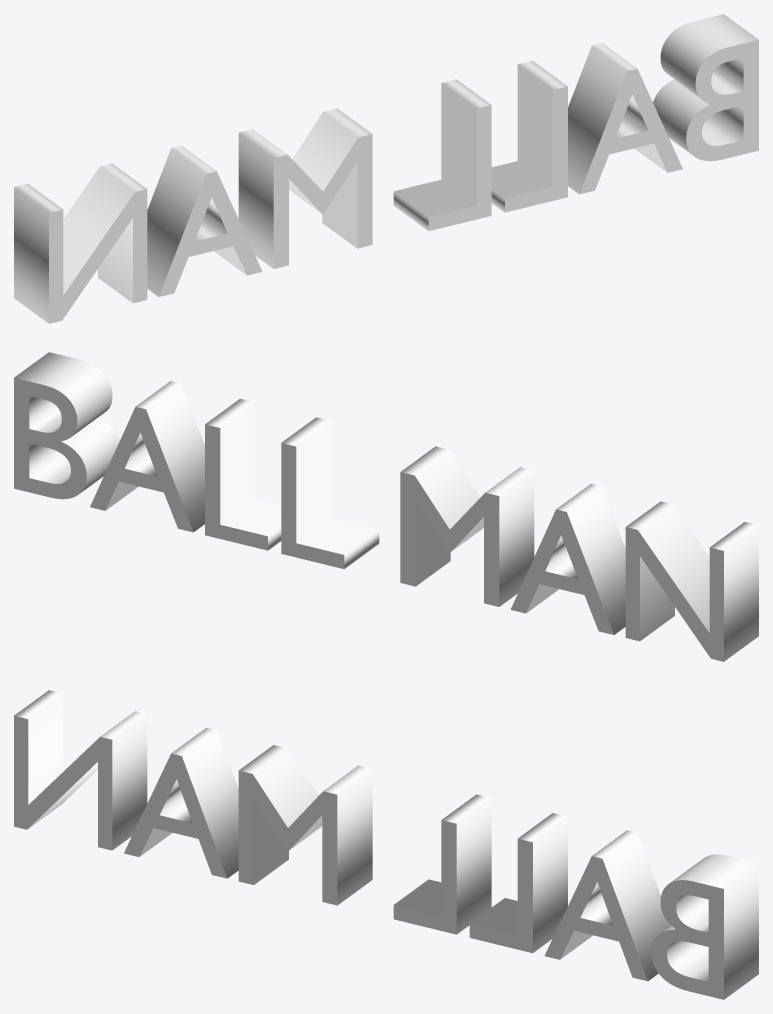
Rendered from title.obj.
3 renders of one model, top to bottom at view 1: azimuth 30°, elevation 25°; view 2: azimuth 150°, elevation 25°; view 3: azimuth 330°, elevation 25°, orthographic.
Parts seen in each view (by area): view 1: テキスト; view 2: テキスト; view 3: テキスト.
Part boxes in pixels (left/top/right/bottom): テキスト: left=14, top=14, right=758, bottom=323; テキスト: left=14, top=352, right=758, bottom=661; テキスト: left=14, top=690, right=758, bottom=999.
Size of the model in its own units: 23.37 by 3.51 by 2.
Materials: 1 (1 with a texture image).
